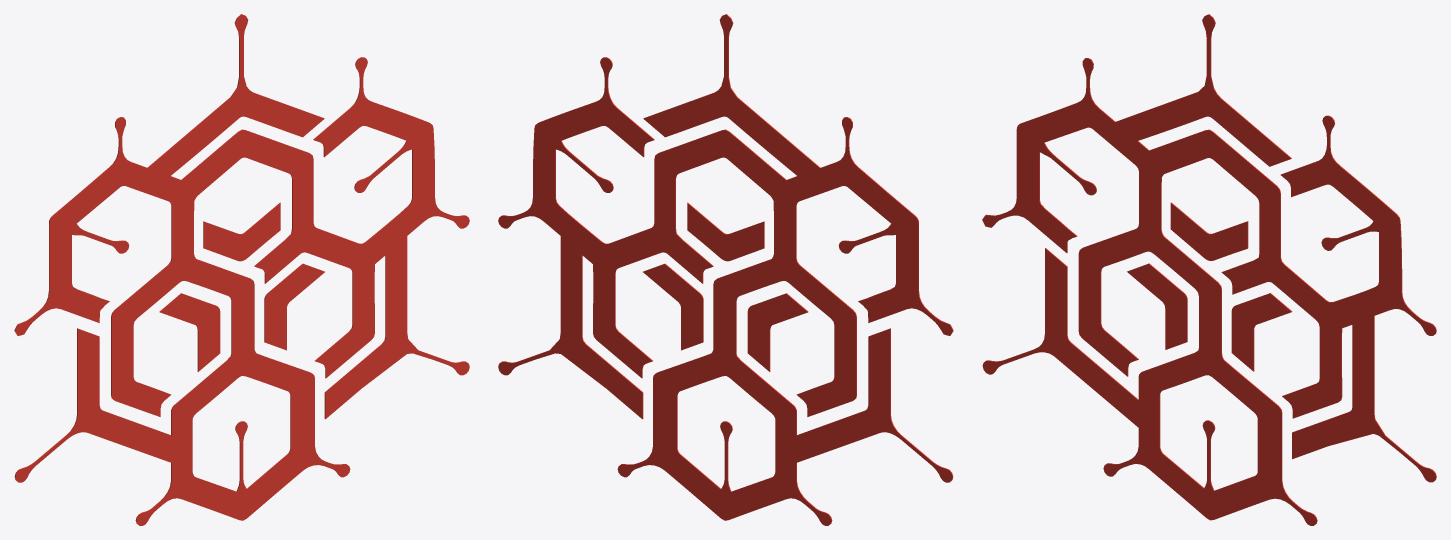
File: GRAF_3_13.glb
3 views of the same model, side by side, from view 1: azimuth 30°, elevation 25°; view 2: azimuth 150°, elevation 25°; view 3: azimuth 330°, elevation 25° (orthographic).
Parts seen in each view (by area): view 1: Curve.001; view 2: Curve.001; view 3: Curve.001.
Boxes of the visible parts, x1,y1,x2,y2 form: Curve.001: (14, 14, 469, 525); Curve.001: (498, 14, 953, 525); Curve.001: (982, 14, 1436, 525).
Bounding box in the file's own units: 3.45 × 3.67 × 0.00822.
